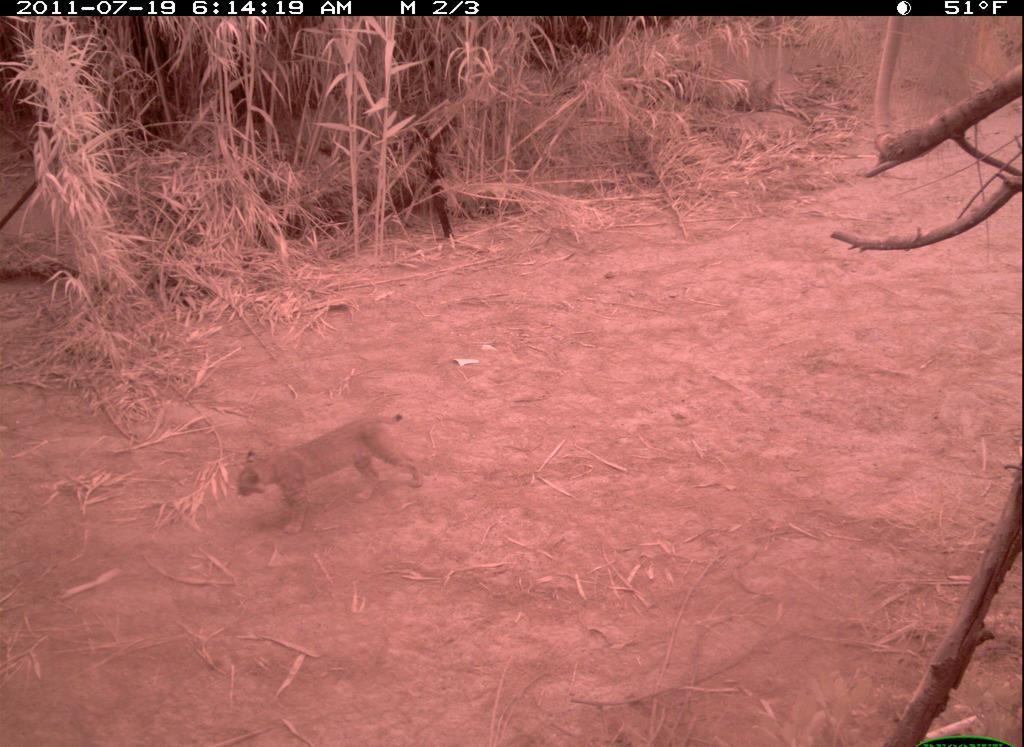bobcat: (227, 404, 432, 521)
